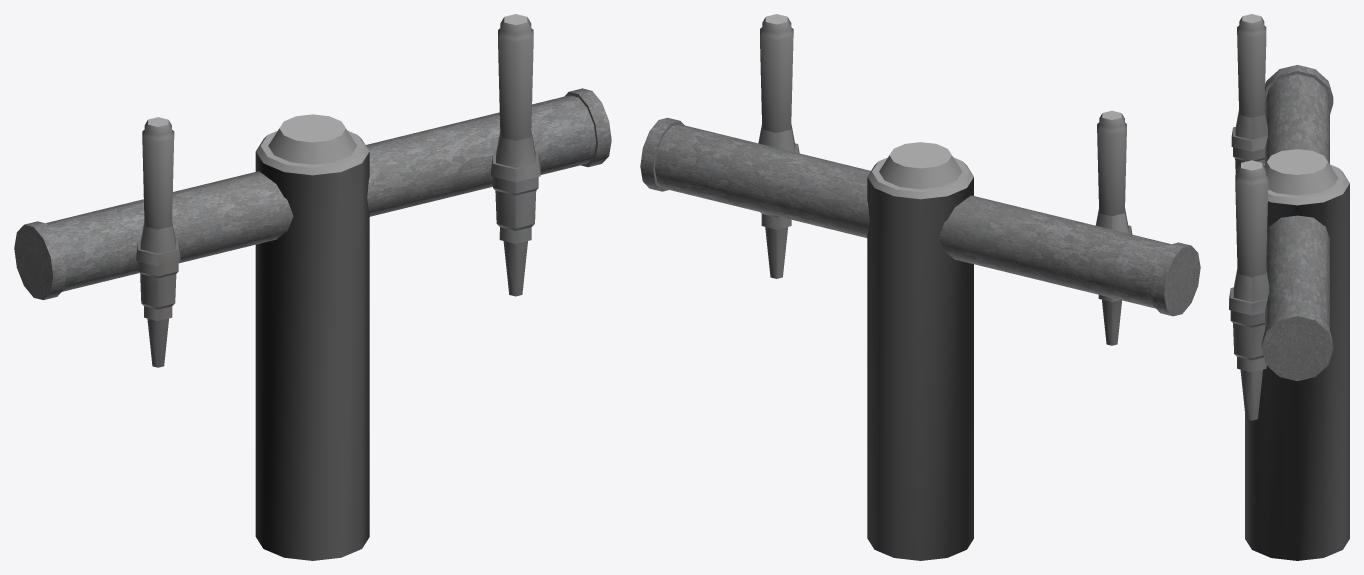
Rendered from SM_LobbyandHotel_Prop_BarPump.FBX.
3 views of the same model, side by side, from view 1: azimuth 30°, elevation 25°; view 2: azimuth 150°, elevation 25°; view 3: azimuth 270°, elevation 25° (orthographic). The views are drawn at different scales.
Parts seen in each view (by area): view 1: SM_LobbyandHotel_Prop_BarPump; view 2: SM_LobbyandHotel_Prop_BarPump; view 3: SM_LobbyandHotel_Prop_BarPump.
Boxes of the visible parts, box(x1,y1,x2,y2) form: SM_LobbyandHotel_Prop_BarPump: box(14, 14, 611, 560); SM_LobbyandHotel_Prop_BarPump: box(640, 14, 1200, 560); SM_LobbyandHotel_Prop_BarPump: box(1229, 14, 1349, 560).
Bounding box in the file's own units: 0.6458 × 0.5435 × 0.1313.
